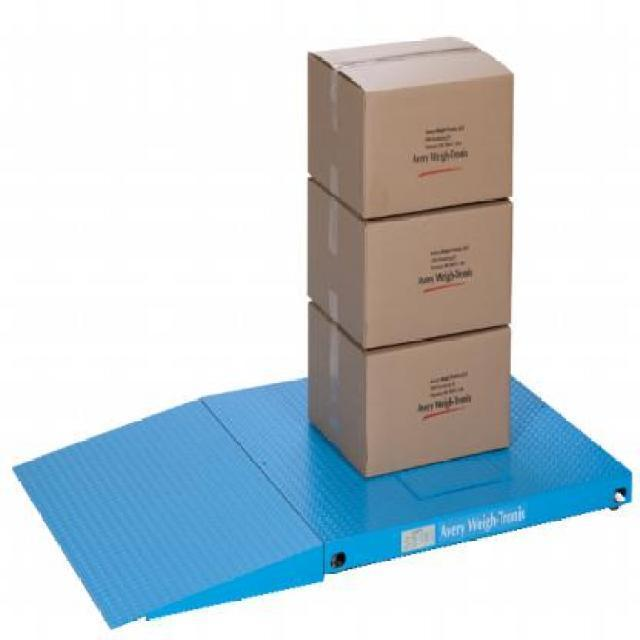box: (308, 31, 515, 220), (308, 176, 512, 351), (309, 301, 513, 475)
